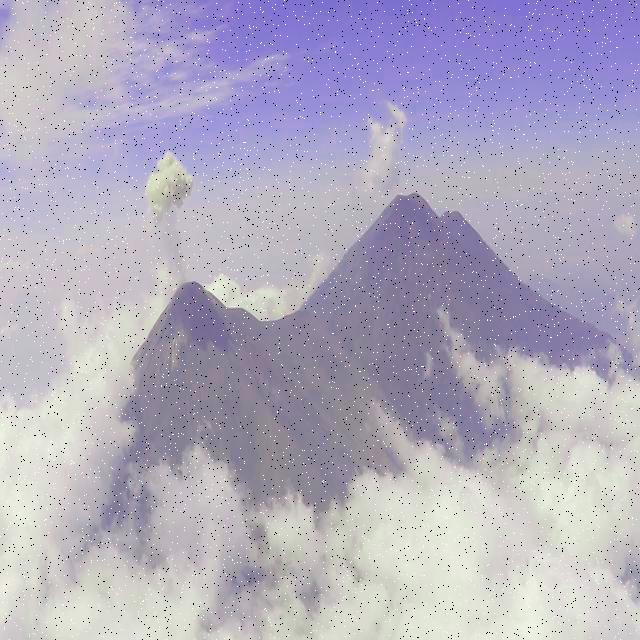Plume: (144, 148, 194, 228)
Summit: (154, 269, 260, 330)
